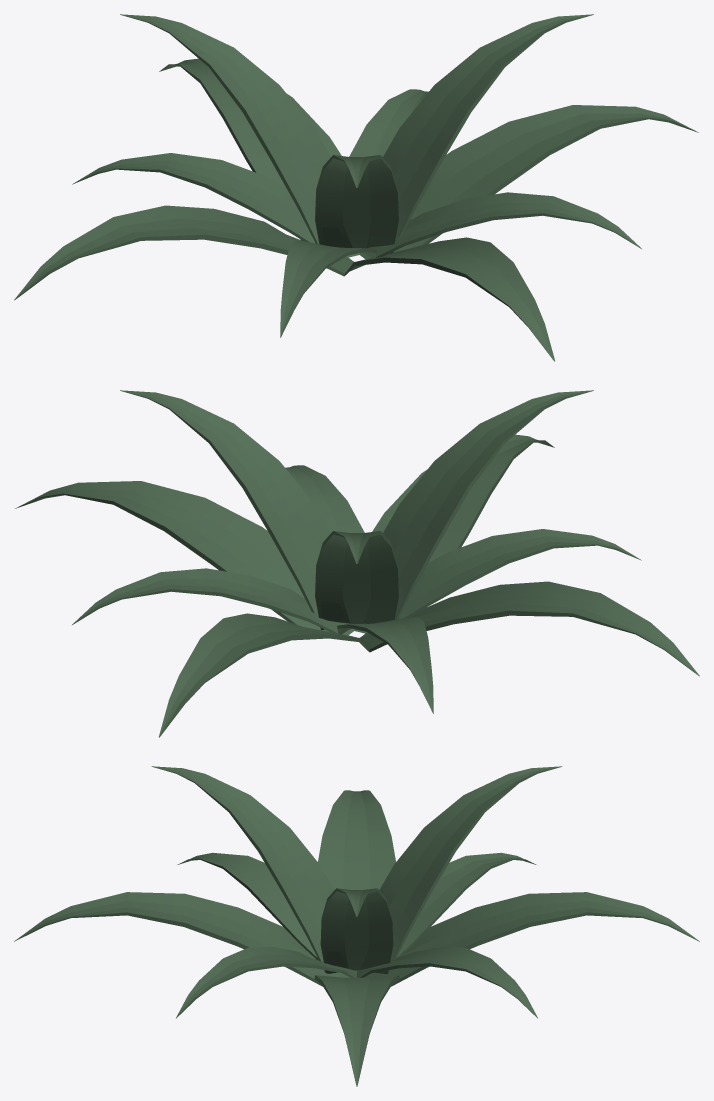
File: Planta.fbx
3 views of the same model, one above another, from view 1: azimuth 30°, elevation 25°; view 2: azimuth 150°, elevation 25°; view 3: azimuth 270°, elevation 25° (orthographic). The views are drawn at different scales.
Visible parts, largest first — view 1: pCube6, pCube11, pCube7; view 2: pCube6, pCube11, pCube7; view 3: pCube6, pCube11, pCube7.
Boxes of the visible parts, x1,y1,x2,y2 form: pCube6: (14,58,698,361); pCube11: (120,14,593,253); pCube7: (72,89,641,337); pCube6: (15,434,699,737); pCube11: (120,390,593,630); pCube7: (72,465,641,713); pCube6: (14,790,699,1086); pCube11: (151,766,562,974); pCube7: (176,852,537,1018).
Size of the model in its own units: 2.45 by 0.6478 by 2.45.
